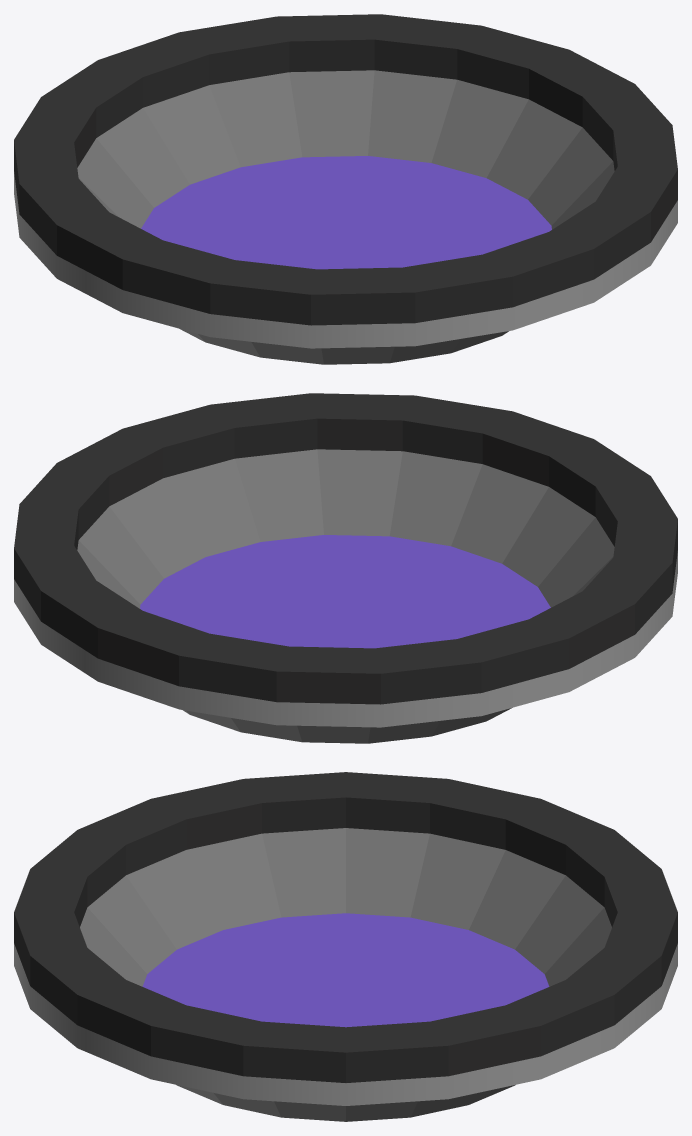
The model's file is Pit.fbx.
3 views of the same model, one above another, from view 1: azimuth 30°, elevation 25°; view 2: azimuth 150°, elevation 25°; view 3: azimuth 270°, elevation 25° (orthographic).
Visible parts, largest first — view 1: pCylinder1; view 2: pCylinder1; view 3: pCylinder1.
Boxes of the visible parts, x1,y1,x2,y2 form: pCylinder1: (14,14,677,364); pCylinder1: (14,393,677,743); pCylinder1: (14,772,677,1121).
Size of the model in its own units: 3.18 by 0.6405 by 3.18.
